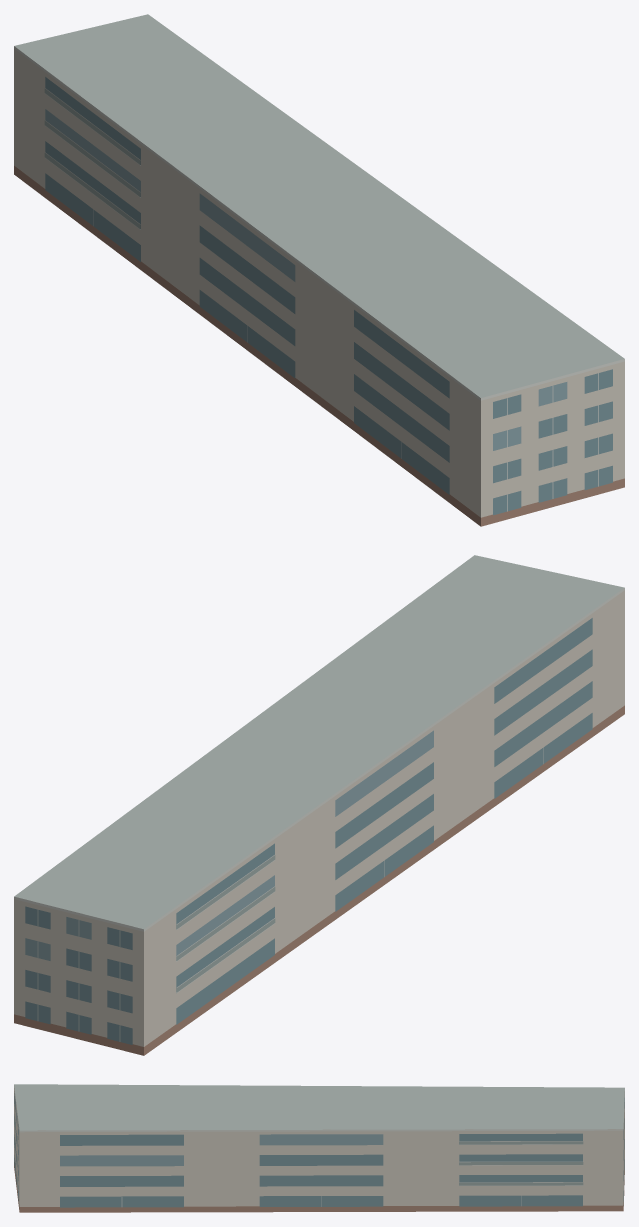
The model's file is residential-8d259a00-0c5c-4feb-a19a-9053ca7b392b.glb.
3 views of the same model, one above another, from view 1: azimuth 30°, elevation 25°; view 2: azimuth 150°, elevation 25°; view 3: azimuth 270°, elevation 25° (orthographic). The views are drawn at different scales.
Parts seen in each view (by area): view 1: residential-8d259a00-0c5c-4feb-a19a-9053ca7b392b.tmp; view 2: residential-8d259a00-0c5c-4feb-a19a-9053ca7b392b.tmp; view 3: residential-8d259a00-0c5c-4feb-a19a-9053ca7b392b.tmp.
Part boxes in pixels (x1,y1,x2,y2): residential-8d259a00-0c5c-4feb-a19a-9053ca7b392b.tmp: [14, 14, 624, 526]; residential-8d259a00-0c5c-4feb-a19a-9053ca7b392b.tmp: [14, 555, 624, 1055]; residential-8d259a00-0c5c-4feb-a19a-9053ca7b392b.tmp: [14, 1084, 624, 1212].
Size of the model in its own units: 14.74 by 12.2 by 82.19.
